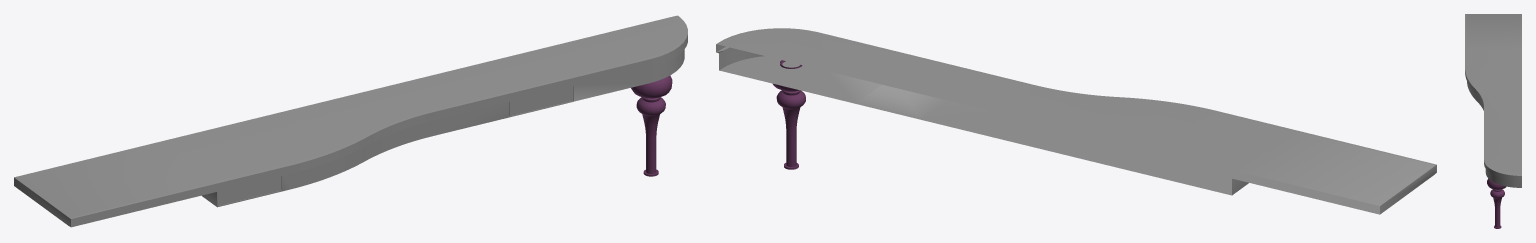
Rendered from TV_cabinet_MB.FBX.
3 views of the same model, side by side, from view 1: azimuth 30°, elevation 25°; view 2: azimuth 150°, elevation 25°; view 3: azimuth 270°, elevation 25° (orthographic). The views are drawn at different scales.
Parts seen in each view (by area): view 1: UN_Cabinet_09; view 2: UN_Cabinet_09; view 3: UN_Cabinet_09.
Boxes of the visible parts, left/top/right/bottom form: UN_Cabinet_09: left=14, top=15, right=687, bottom=227; UN_Cabinet_09: left=716, top=28, right=1436, bottom=214; UN_Cabinet_09: left=1465, top=14, right=1521, bottom=228.
Bounding box in the file's own units: 4.03 × 0.7413 × 0.5985.
